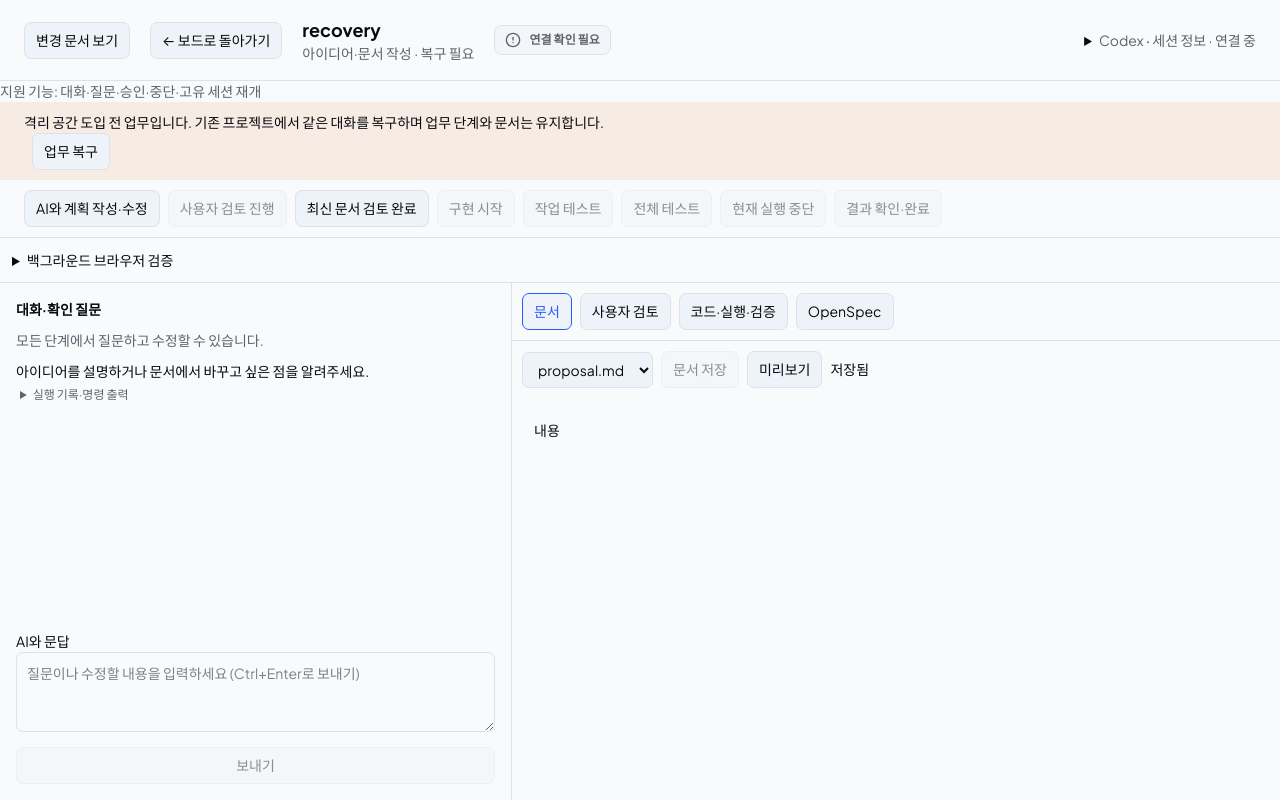
Test case: 복구 실패 시 최신 원인을 표시하고 같은 버튼으로 재시도한다
The width and height of the screenshot is (1280, 800).
Step 1. Click the button "업무 복구" → (71, 152), box [32,133,110,170]
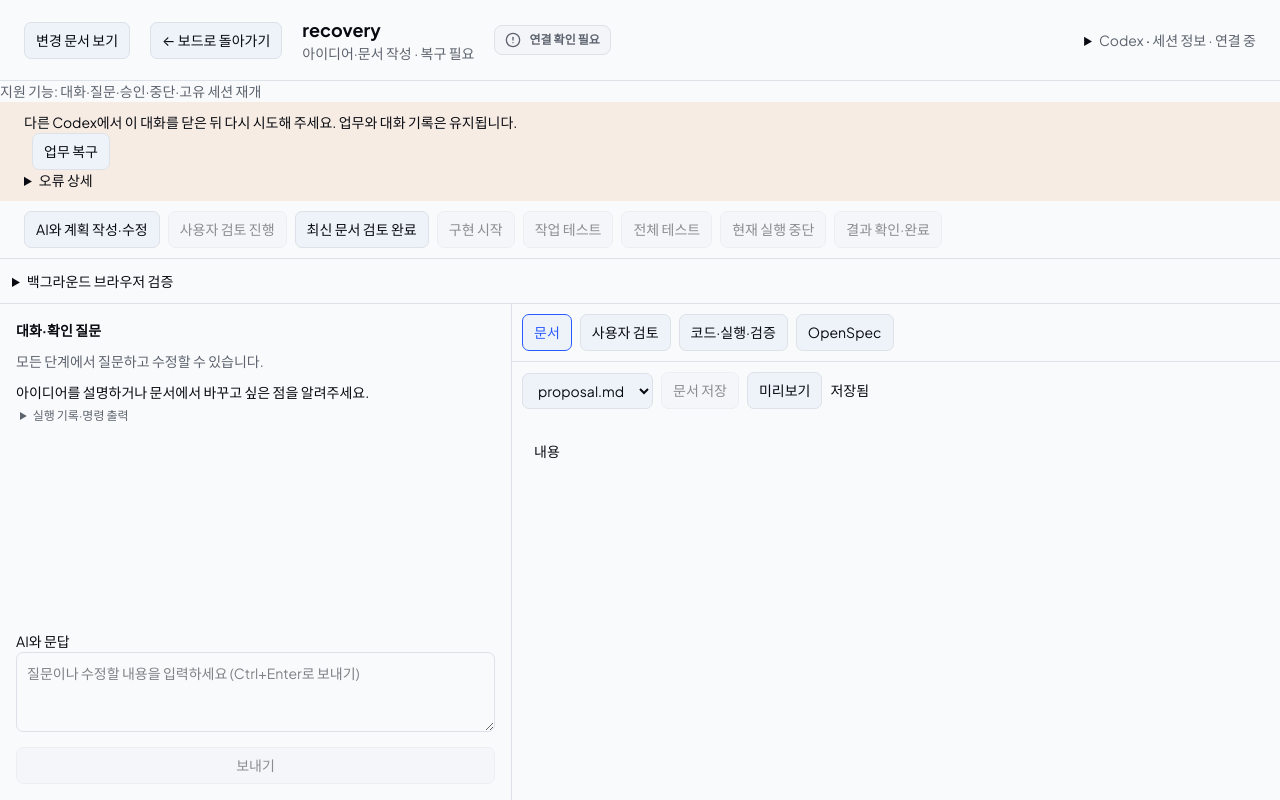
Check: the text "다른 Codex에서 이 대화를 닫은 뒤 다시 시도해 주세요. 업무와 대화 기록은 유지됩니다." is shown, box [24,113,517,131]
Step 2. Click the button "업무 복구" → (71, 152), box [32,133,110,170]
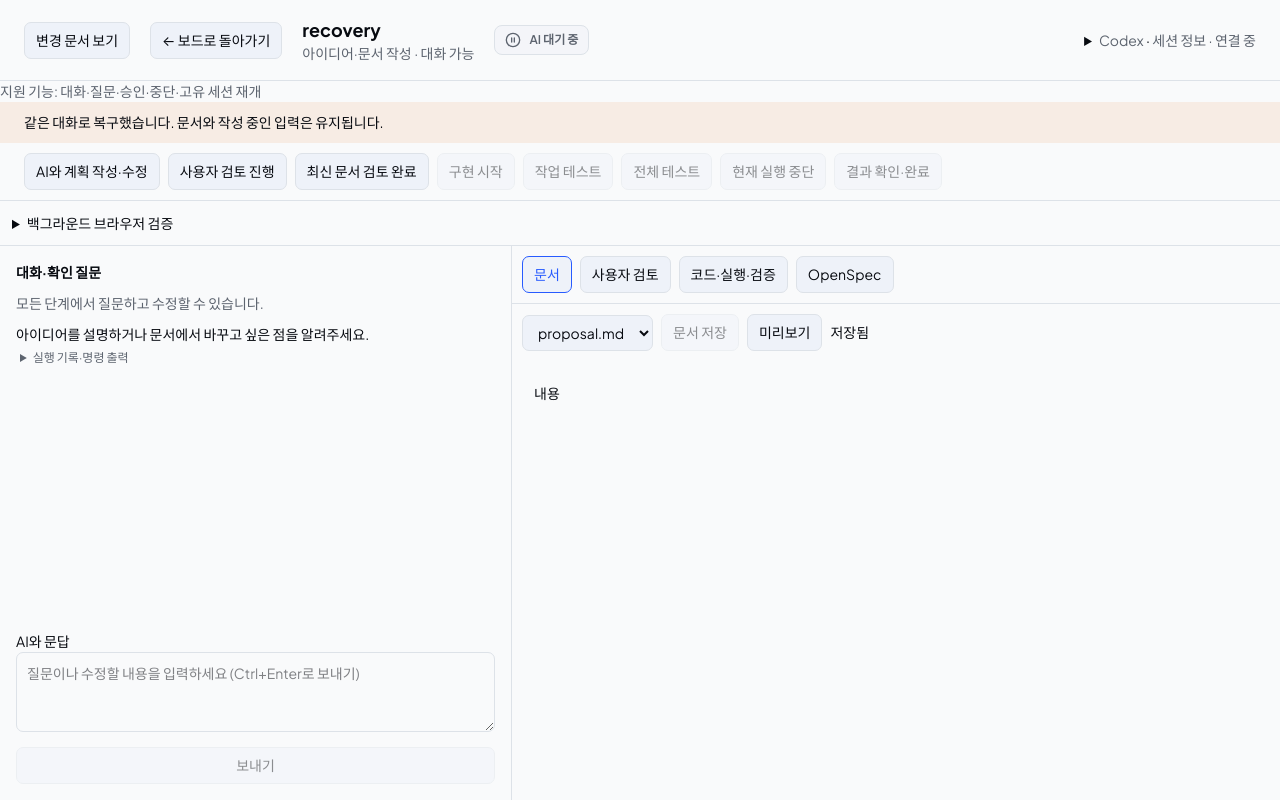
Check: the text "같은 대화로 복구했습니다. 문서와 작성 중인 입력은 유지됩니다." is shown, box [0,102,1279,143]
